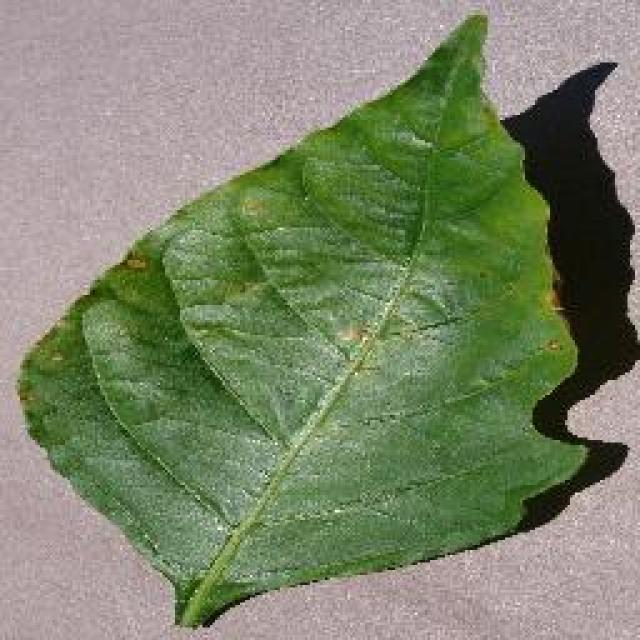Chilli_Bacterial_Spot: (12, 10, 600, 630), (532, 266, 575, 362), (227, 182, 275, 228), (332, 318, 370, 350), (232, 190, 268, 220), (120, 247, 150, 275), (45, 345, 67, 365)
